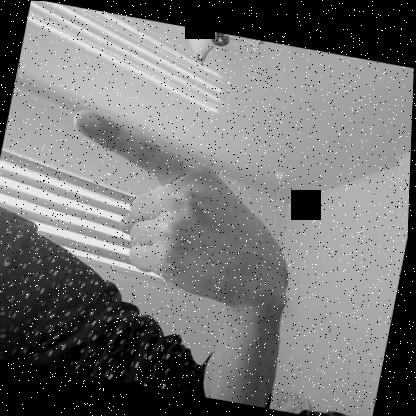G: (46, 105, 318, 315)
